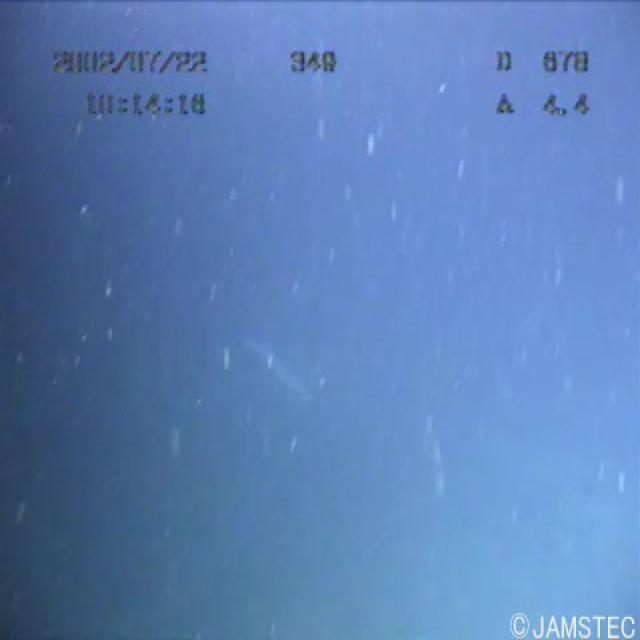plastic: (220, 320, 337, 428)
